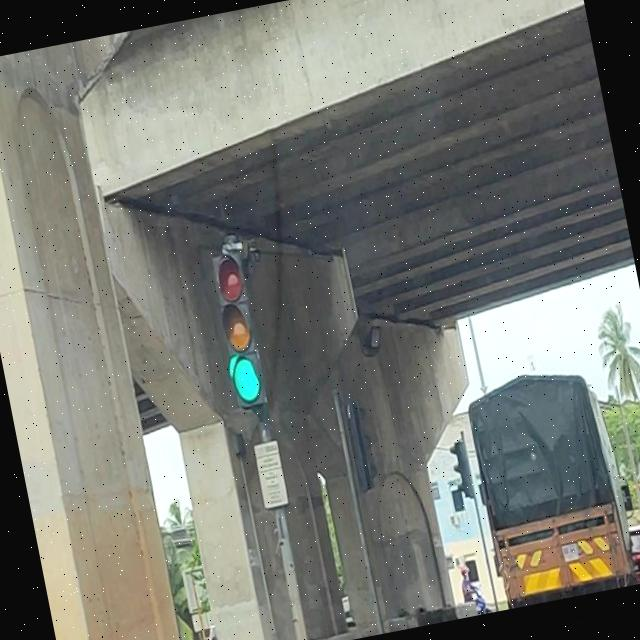green_light: (208, 248, 270, 409)
